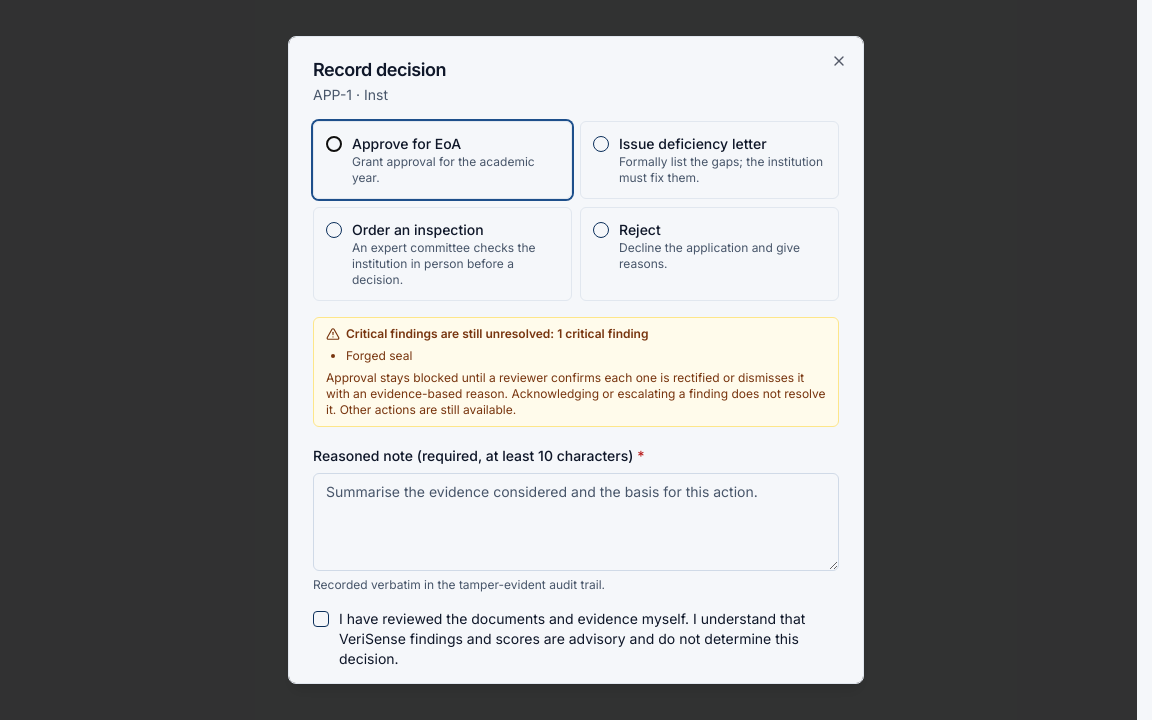
Scenario: DecisionDialog guard › blocks approval while a CRITICAL finding is unresolved
Click the radio button next to "Approve for EoA": point(334, 144) [326, 136, 342, 152]
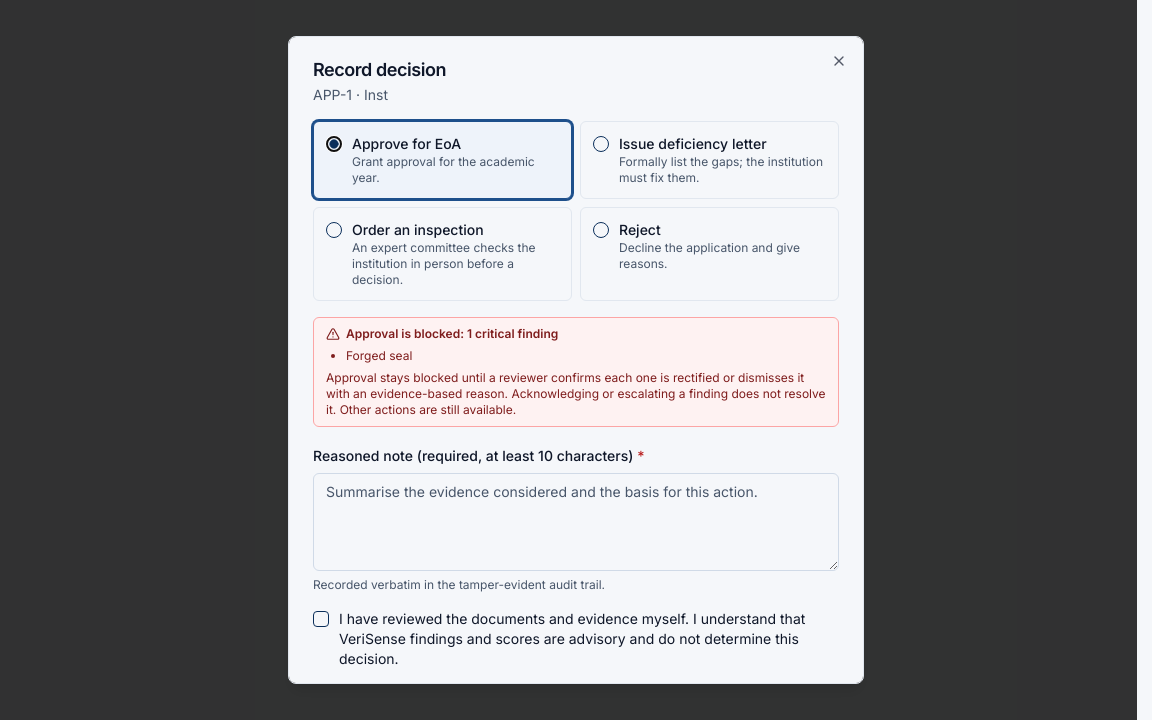
Replace the text in the text box with "A sufficiently long note": point(576, 522) [313, 473, 839, 571]
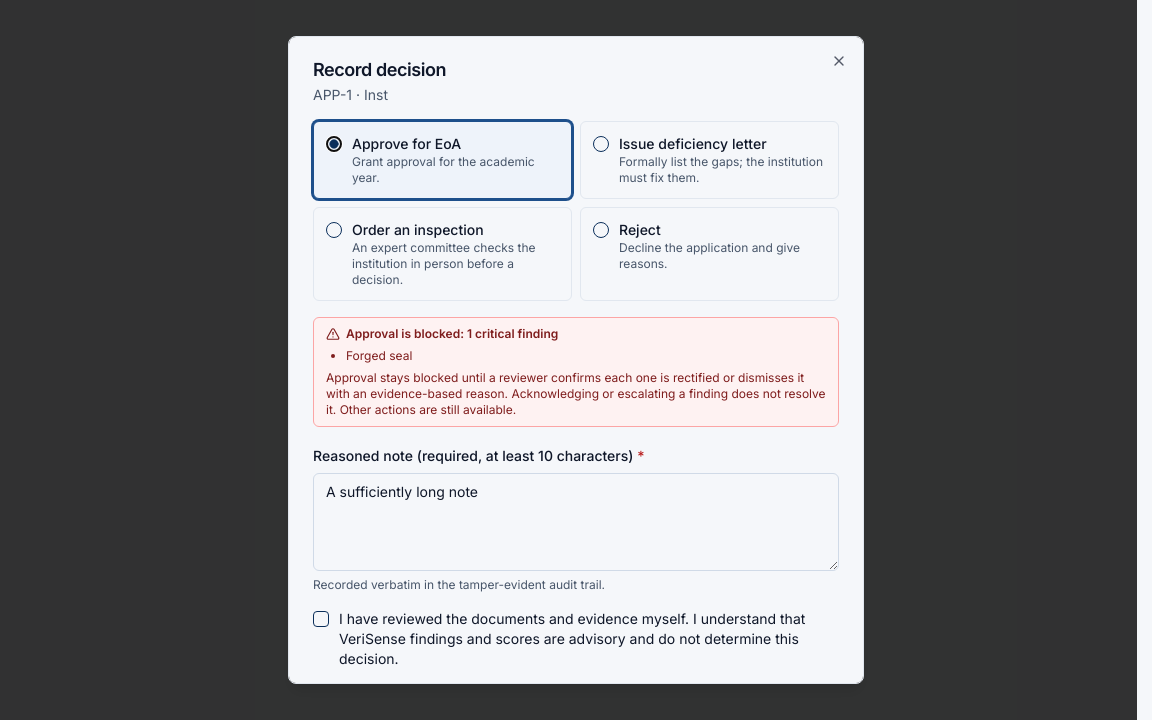
Click the checkbox: point(321, 619) [313, 611, 329, 627]
(page scrolled)
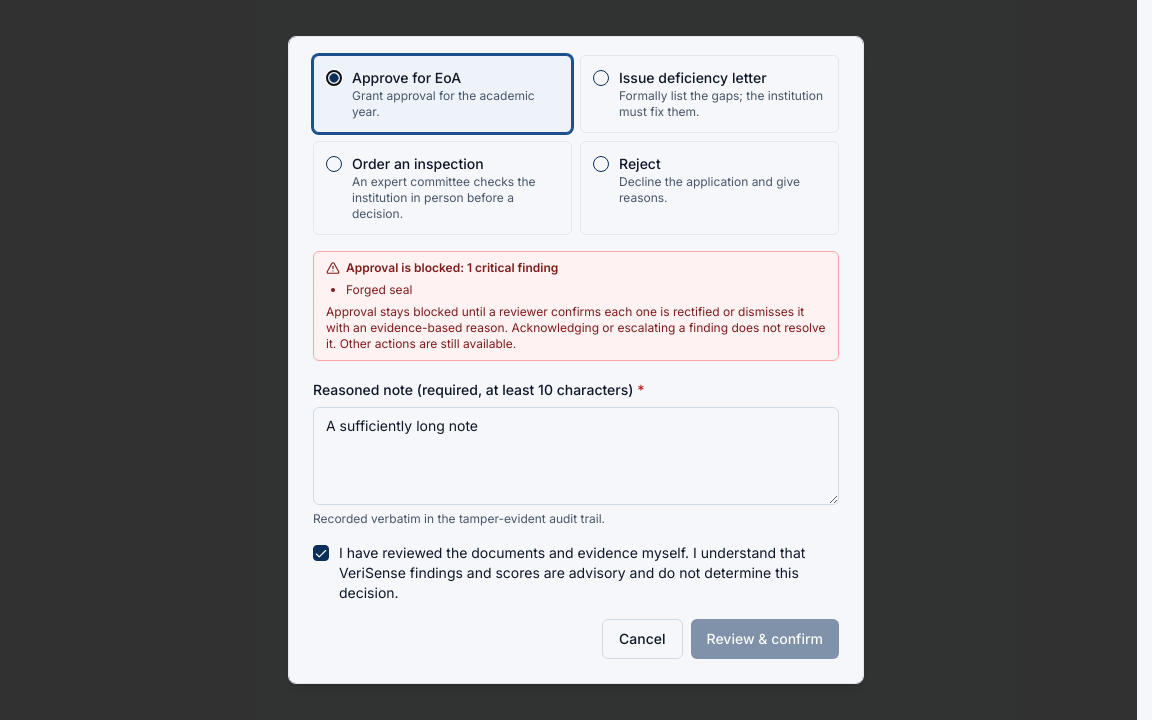
Result: the text "Approval is blocked: 1 critical finding" is shown at [326, 260, 558, 275]
Result: the button "Review & confirm" is disabled at [690, 619, 839, 659]
